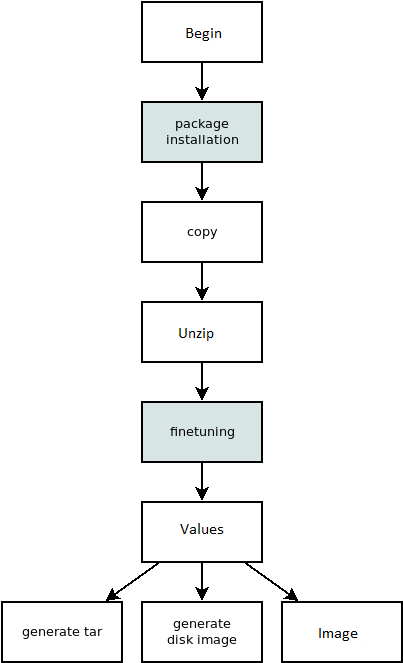arrow: (101, 564, 162, 602), (244, 561, 300, 602), (193, 461, 212, 498), (195, 161, 209, 201), (195, 364, 209, 402), (195, 263, 208, 302), (195, 563, 209, 599), (196, 64, 209, 101)
process: (137, 398, 267, 466), (138, 99, 266, 167), (139, 198, 267, 266), (138, 499, 265, 566), (138, 299, 266, 365), (137, 1, 266, 66), (139, 599, 266, 663), (279, 597, 403, 662), (3, 599, 126, 663)
text: (162, 116, 240, 148), (164, 617, 237, 650), (19, 625, 104, 642), (165, 422, 238, 439), (184, 23, 224, 45), (177, 521, 224, 539), (314, 625, 362, 642), (174, 327, 217, 344), (186, 226, 218, 240)
